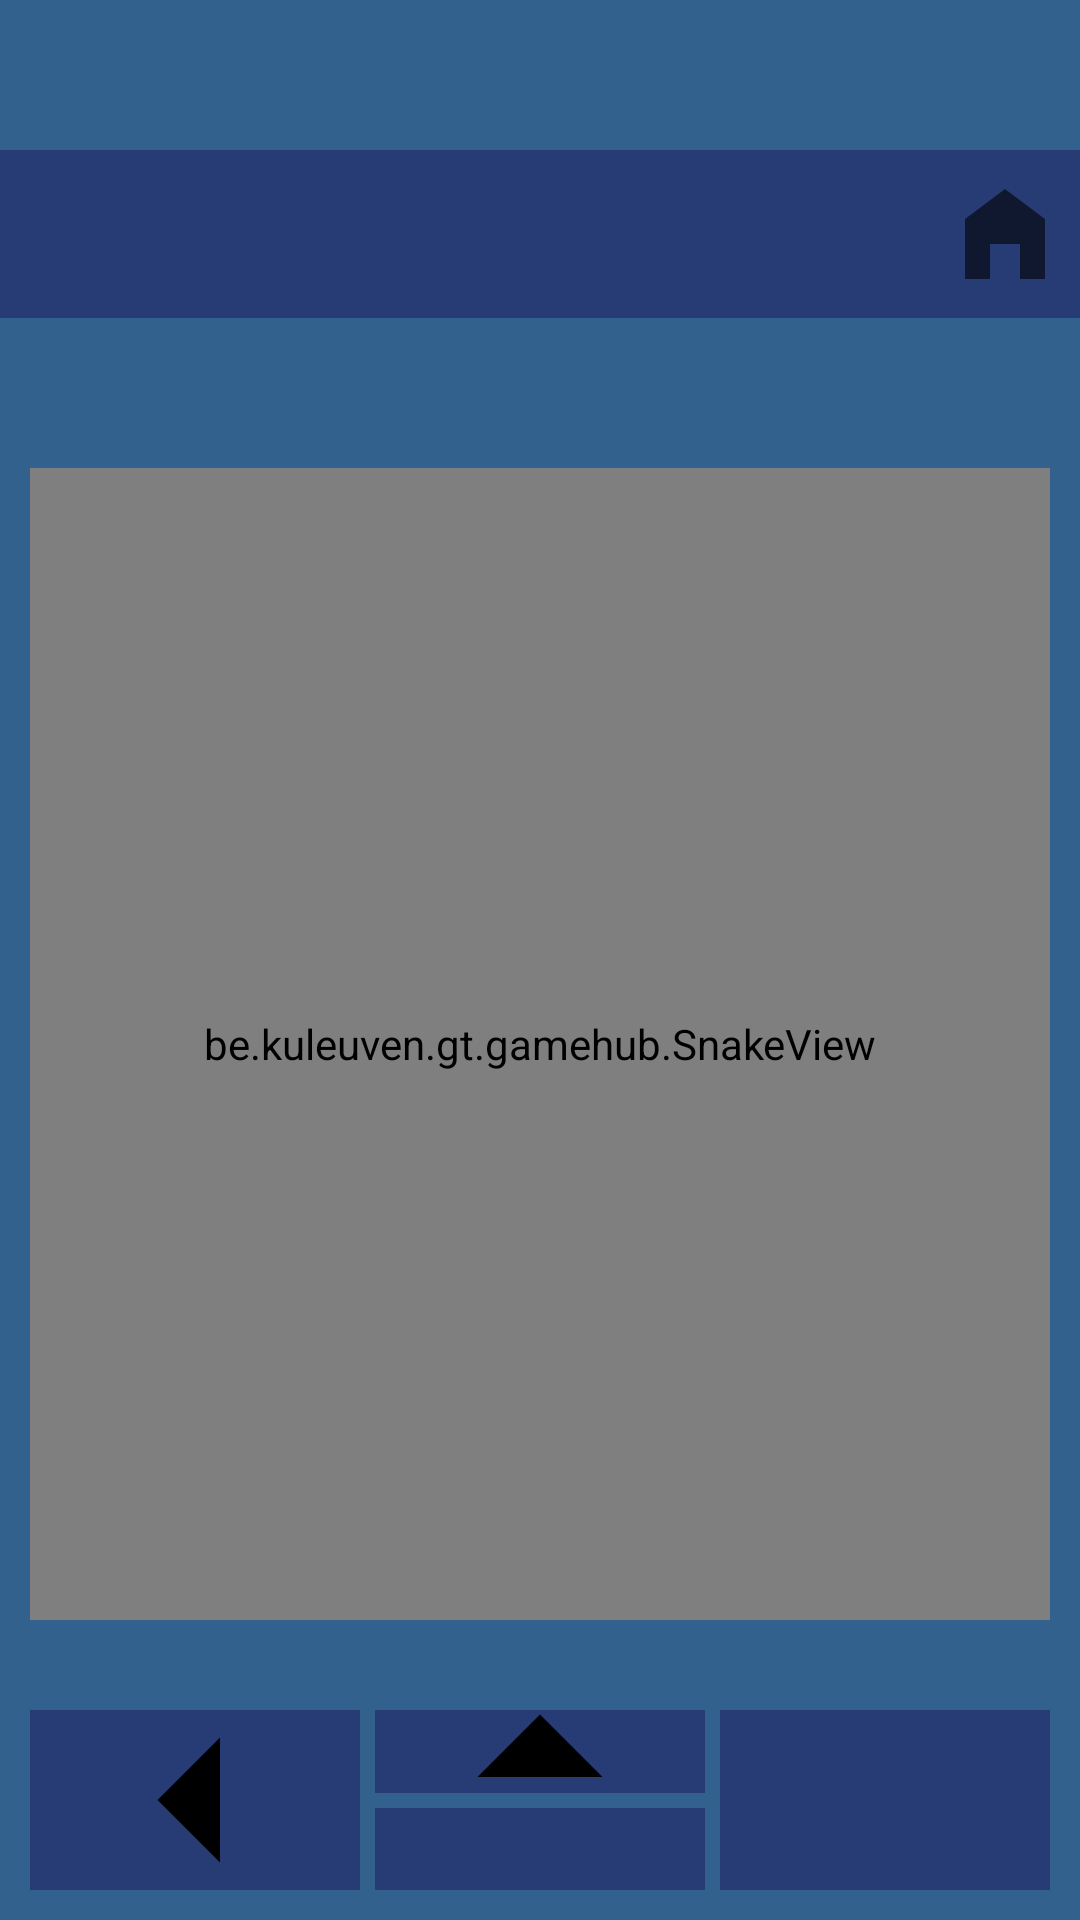

Where to tap for icons on this 1080w x 1920h app screen, as point (x, y):
Move Left: point (195, 1800)
Move Up: point (540, 1751)
